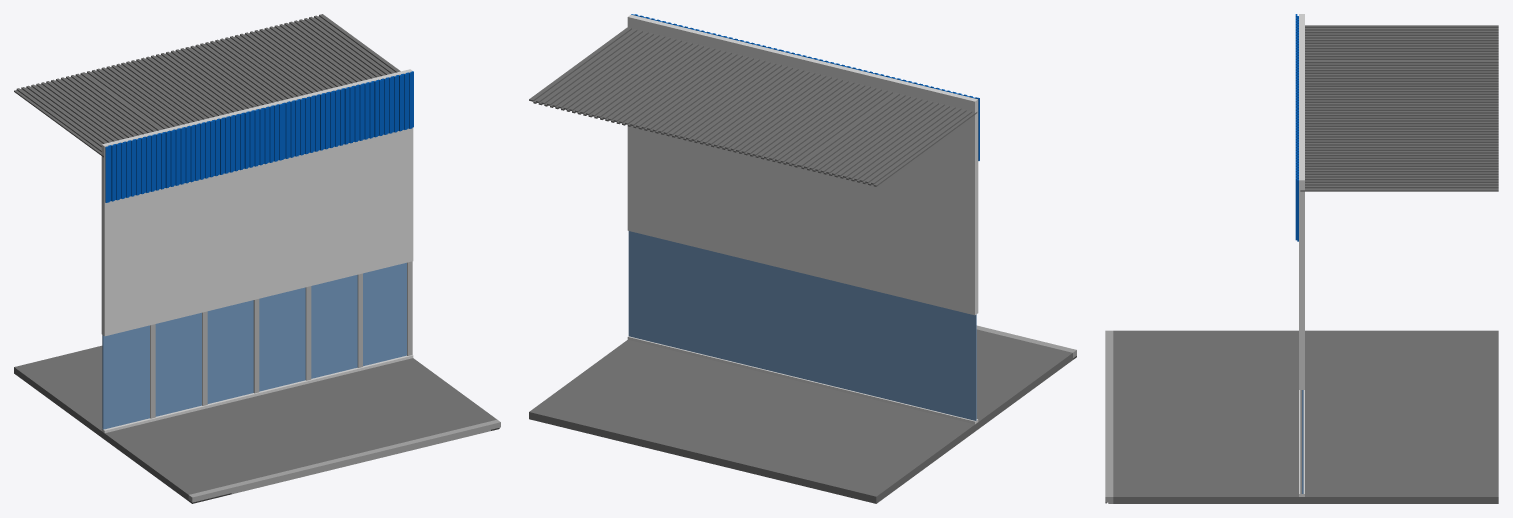
The model's file is shop.vox.obj.
3 views of the same model, side by side, from view 1: azimuth 30°, elevation 25°; view 2: azimuth 150°, elevation 25°; view 3: azimuth 270°, elevation 25° (orthographic). The views are drawn at different scales.
Bounding box in the file's own units: 25 × 22.7 × 25.
1 material, 1 textured.
